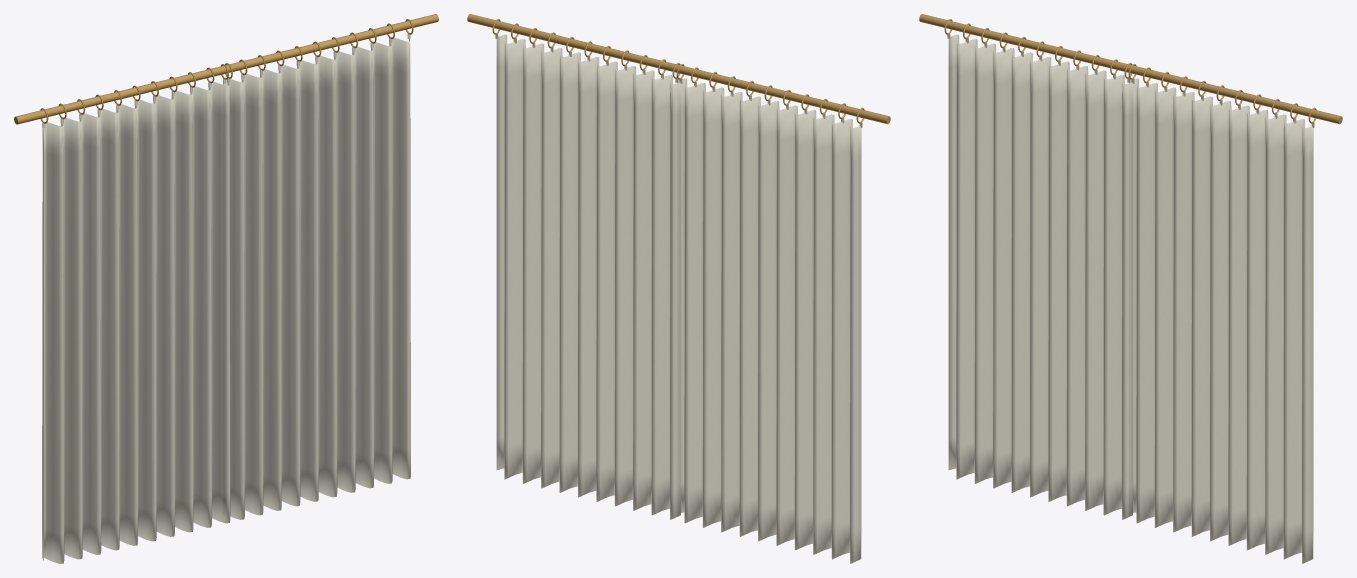
File: curtain.glb
3 views of the same model, side by side, from view 1: azimuth 30°, elevation 25°; view 2: azimuth 150°, elevation 25°; view 3: azimuth 330°, elevation 25° (orthographic).
Visible parts, largest first — view 1: Original pleated curtain, Original pleated curtain.001, Curtain pole; view 2: Original pleated curtain.001, Original pleated curtain, Curtain pole; view 3: Original pleated curtain, Original pleated curtain.001, Curtain pole.
Boxes of the visible parts, x1,y1,x2,y2 form: Original pleated curtain: [42, 81, 230, 563]; Original pleated curtain.001: [223, 37, 410, 519]; Curtain pole: [14, 14, 438, 124]; Original pleated curtain.001: [496, 34, 680, 519]; Original pleated curtain: [677, 78, 861, 563]; Curtain pole: [467, 14, 890, 124]; Original pleated curtain: [948, 34, 1132, 519]; Original pleated curtain.001: [1129, 78, 1313, 563]; Curtain pole: [919, 14, 1342, 124].
Size of the model in its own units: 2.12 by 2.19 by 0.103.
2 materials, 2 textured.
